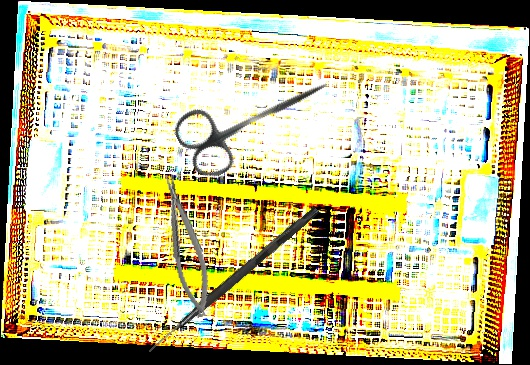Hook Surgical: (146, 204, 320, 357)
Iris Scissors: (168, 50, 342, 185)
Needle Holder: (157, 170, 217, 321)
